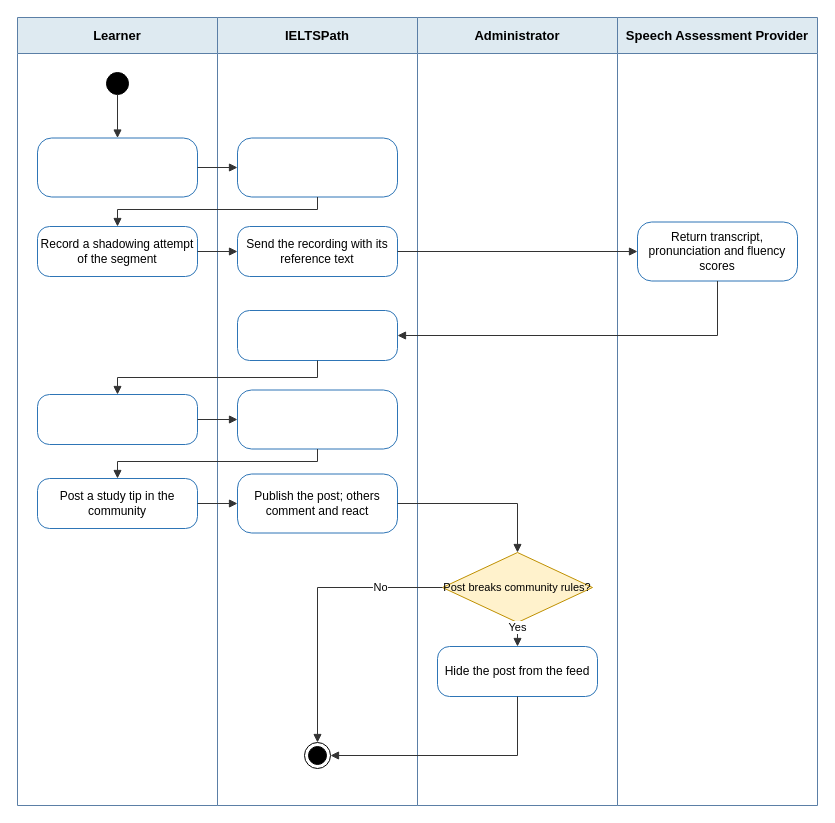
The diagram is 835 pixels wide and 823 high, and some of its shapes have lost their labels. Here are the shapes that lost their labels. From the top down, the centre of each, then its label:
At pixel 117 167: "Watch a video, save a segment, add new words to a deck".
At pixel 317 167: "Save progress, segment and cards in the personal library".
At pixel 317 335: "Show the transcript and scores".
At pixel 117 419: "Play a 10-question word-meaning game".
At pixel 317 419: "Score 1 point per correct answer; save the session".
